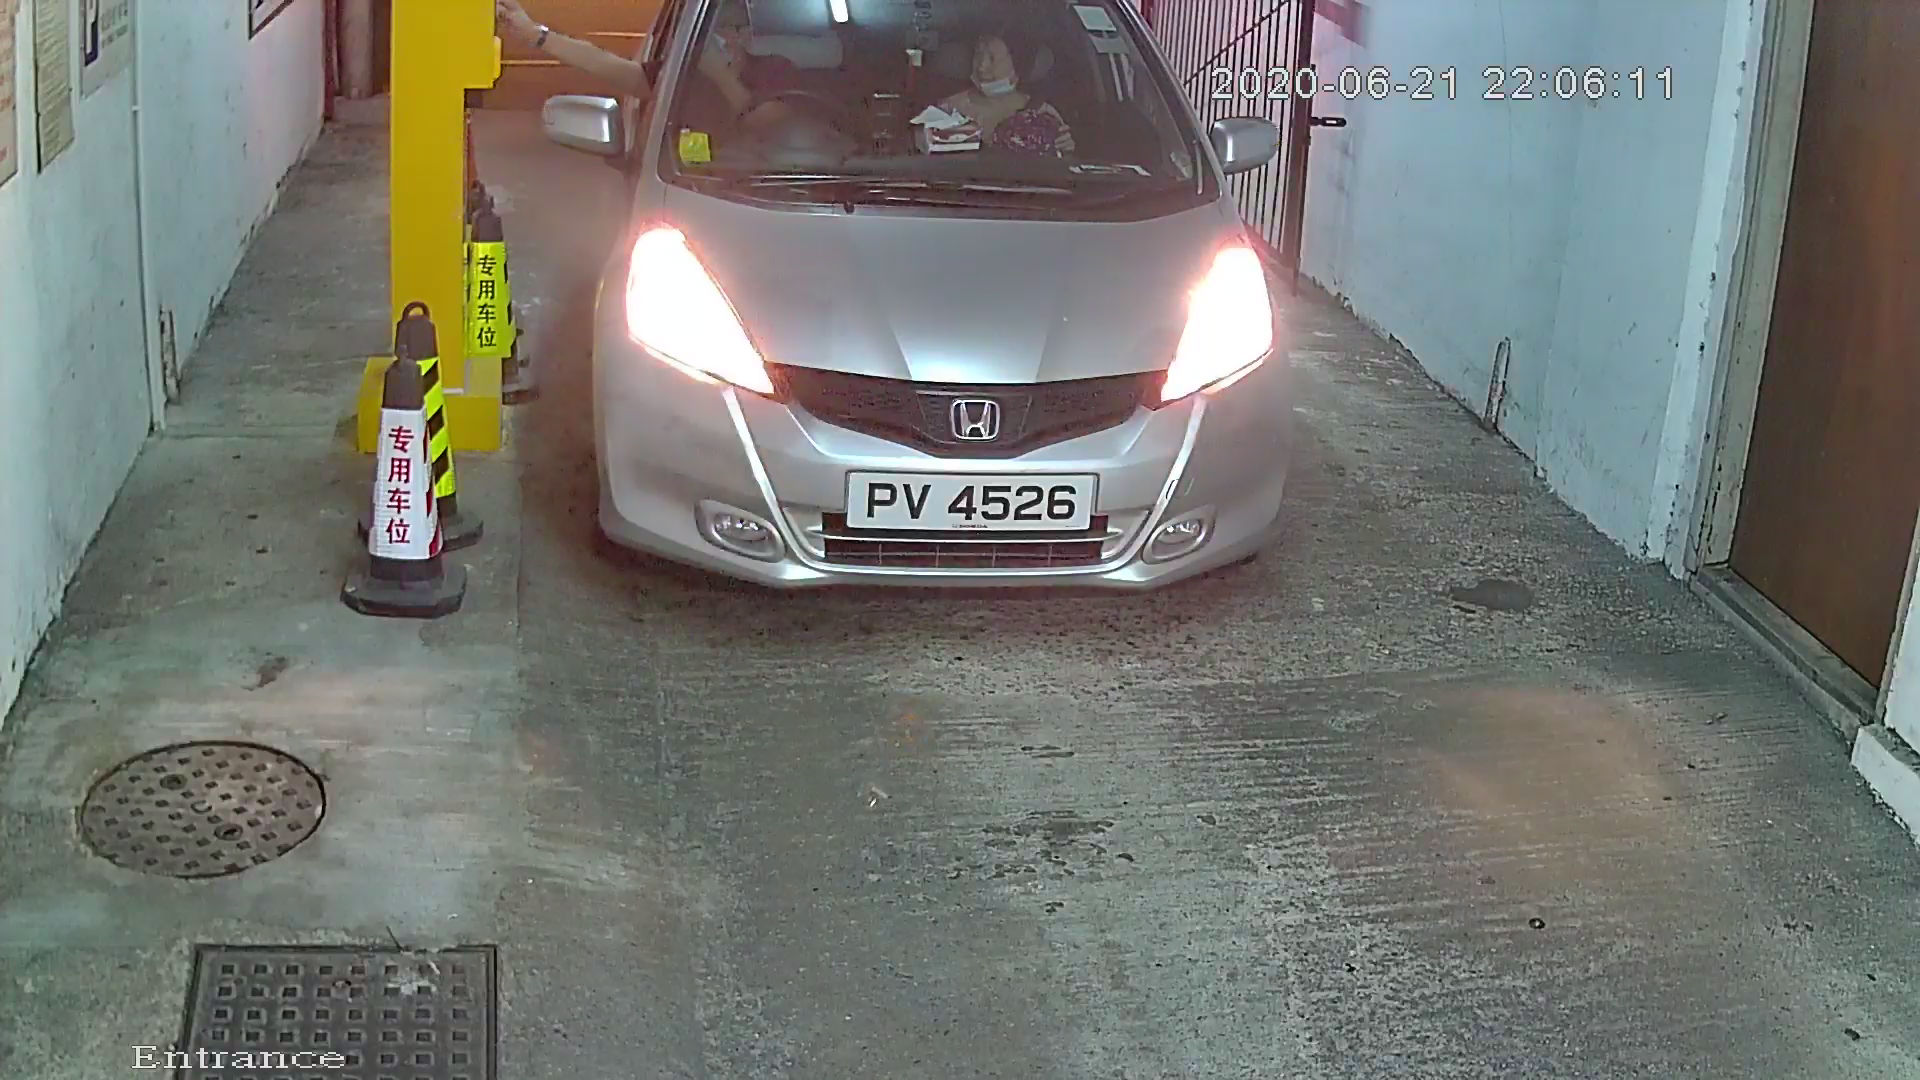privatecar: (473, 3, 1335, 659)
